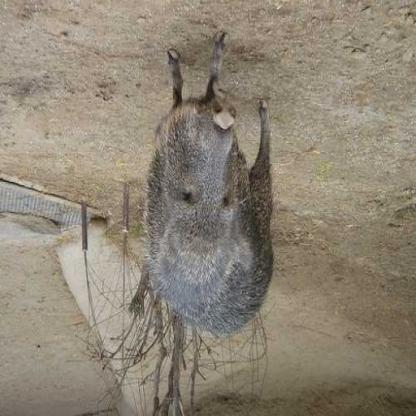boar: (136, 44, 303, 342)
